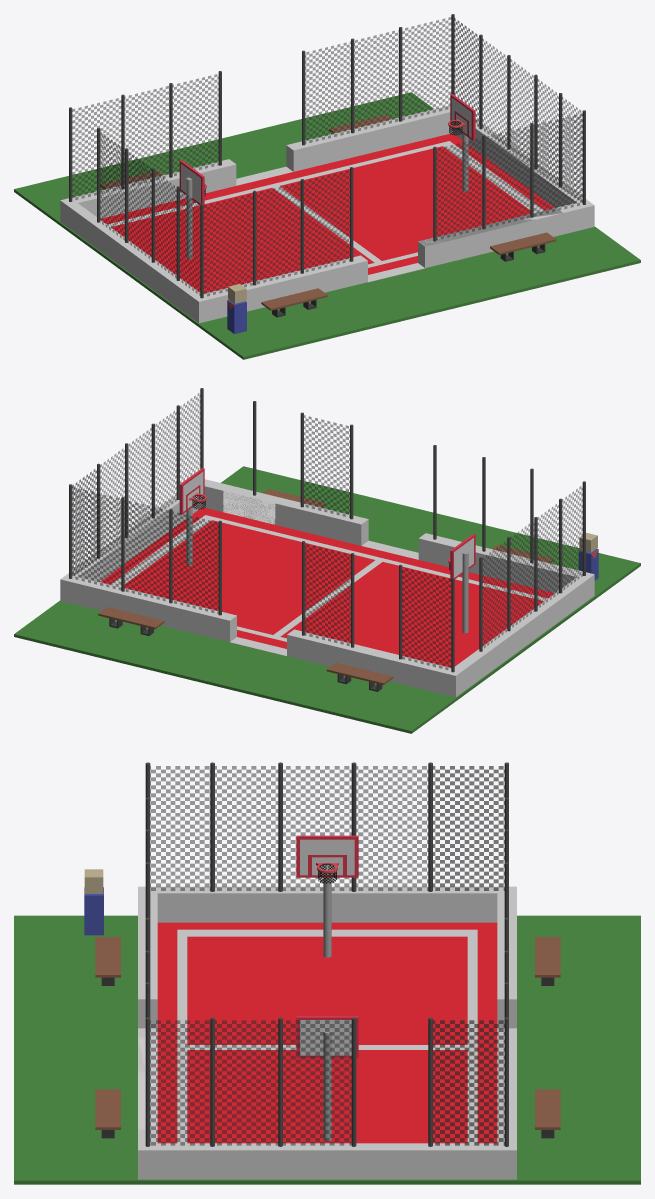
File: basquete 1.fbx
The picture shows the model from 3 angles, top to bottom: view 1: azimuth 30°, elevation 25°; view 2: azimuth 150°, elevation 25°; view 3: azimuth 270°, elevation 25°; orthographic projection. The views are drawn at different scales.
Visible parts, largest first — view 1: Cube.001, Plane.006, Cube.002, Cylinder.001, Cylinder.002, Cube, Cube.007, Cube.004; view 2: Cube.001, Plane.006, Cube.002, Cylinder.001, Cylinder.002, Cube.013, Cube.010, Cube; view 3: Cube.001, Cube.002, Plane.006, Cylinder.001, Cylinder.002, Cube, Cube.004, Cube.007, Cube.010, Cube.013.
Part boxes in pixels (<box>): Cube.001: <box>60,105,594,323</box>; Plane.006: <box>72,17,582,296</box>; Cube.002: <box>14,92,640,359</box>; Cylinder.001: <box>69,14,585,298</box>; Cylinder.002: <box>179,94,475,259</box>; Cube: <box>227,284,246,333</box>; Cube.007: <box>490,232,556,254</box>; Cube.004: <box>261,288,327,310</box>; Cube.001: <box>60,479,594,697</box>; Plane.006: <box>72,393,583,669</box>; Cube.002: <box>14,466,640,733</box>; Cylinder.001: <box>69,388,585,672</box>; Cylinder.002: <box>179,468,475,633</box>; Cube.013: <box>326,662,393,685</box>; Cube.010: <box>98,607,164,629</box>; Cube: <box>578,532,598,580</box>; Cube.001: <box>138,886,516,1179</box>; Cube.002: <box>14,915,640,1184</box>; Plane.006: <box>150,766,504,1145</box>; Cylinder.001: <box>145,762,508,1146</box>; Cylinder.002: <box>296,835,358,1141</box>; Cube: <box>84,869,103,935</box>; Cube.004: <box>95,937,120,977</box>; Cube.007: <box>95,1089,120,1129</box>; Cube.010: <box>535,1089,560,1129</box>; Cube.013: <box>535,937,560,977</box>.
Bounding box in the file's own units: 55.14 × 17.4 × 55.14.
